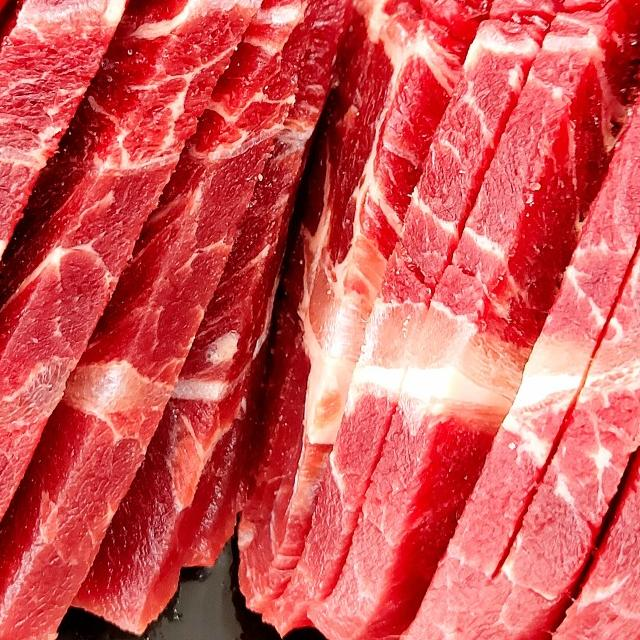beef: (338, 0, 640, 590), (0, 0, 222, 573)
